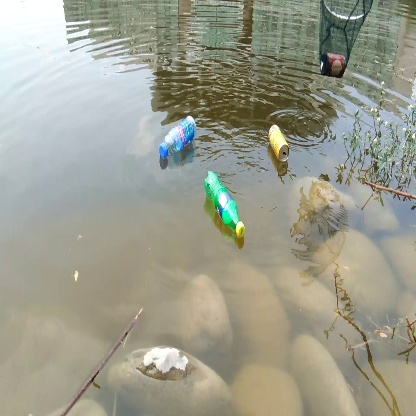bottle: (201, 170, 250, 238), (158, 112, 198, 161), (266, 123, 296, 165)
